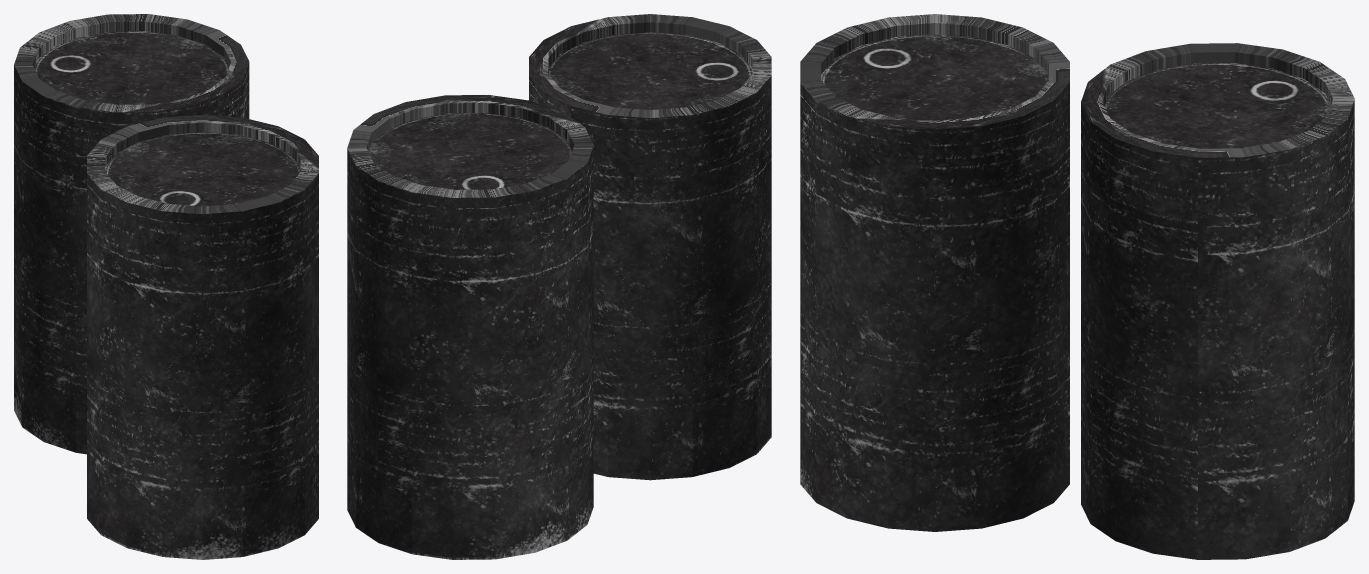
File: barris.obj
The picture shows the model from 3 angles, left to right: view 1: azimuth 30°, elevation 25°; view 2: azimuth 150°, elevation 25°; view 3: azimuth 270°, elevation 25°; orthographic projection. The views are drawn at different scales.
Visible parts, largest first — view 1: Cylinder002; view 2: Cylinder002; view 3: Cylinder002.
Part boxes in pixels (x1,y1,x2,y2): Cylinder002: [14, 14, 318, 559]; Cylinder002: [347, 14, 771, 559]; Cylinder002: [800, 14, 1354, 559].
Size of the model in its own units: 12.22 by 15.95 by 19.93.
1 material, 1 textured.
